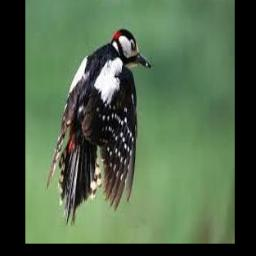Woodpecker: (47, 28, 152, 228)
